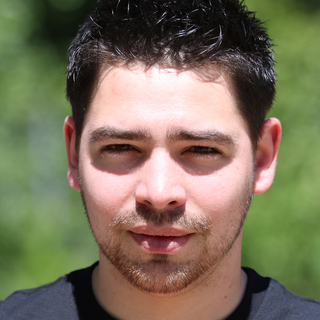eye: (93, 139, 145, 163), (174, 142, 227, 164)
